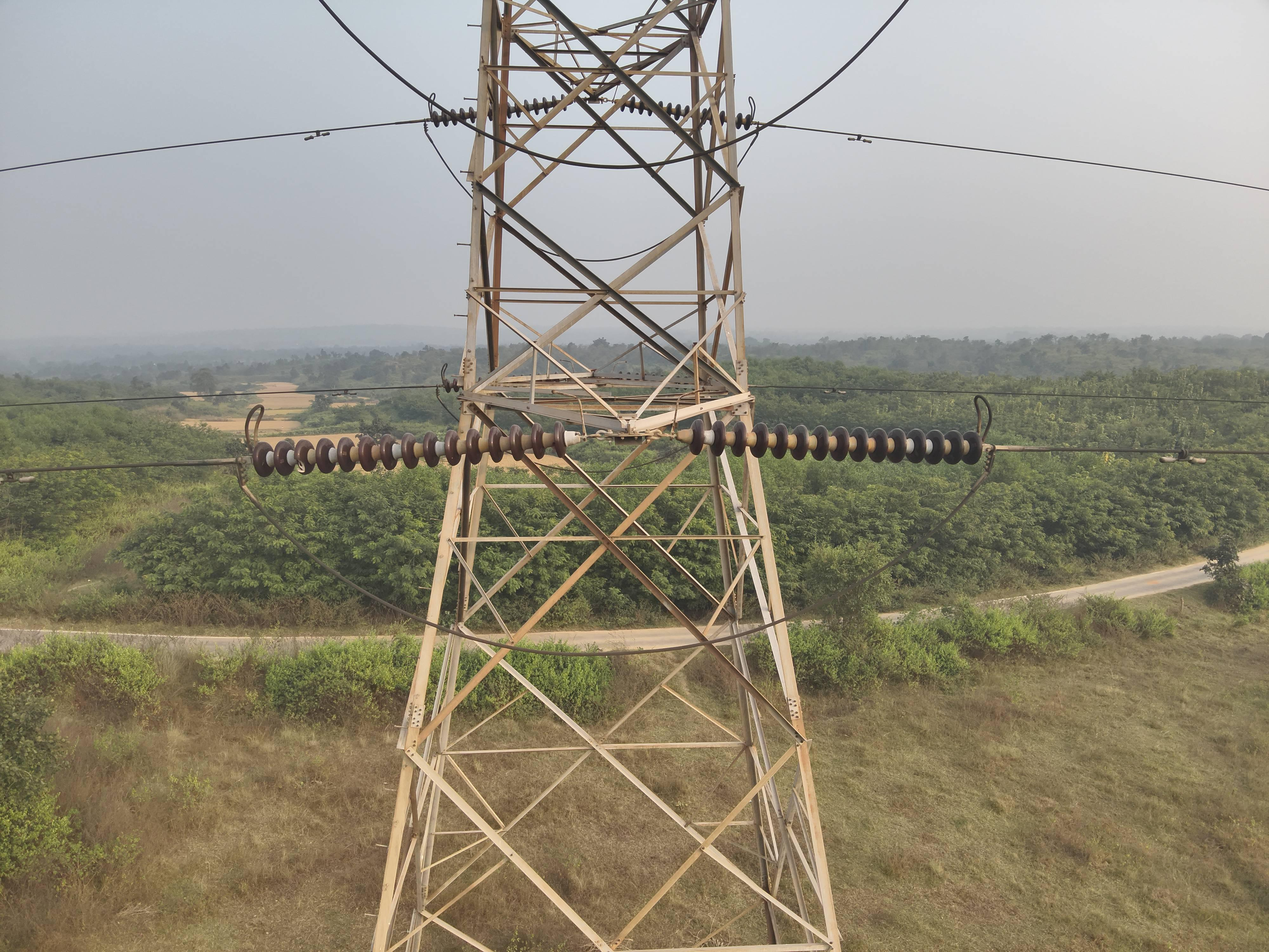broken_insulator: (294, 439, 315, 478)
